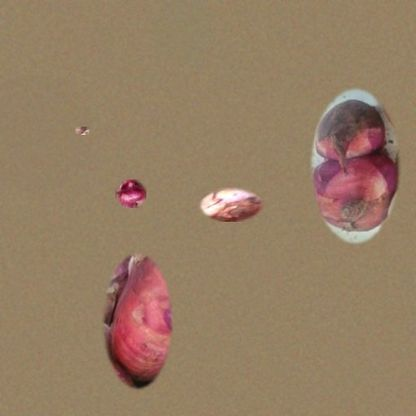damaged: (309, 84, 401, 248)
healthy: (102, 249, 173, 392), (115, 180, 146, 208)
rotten: (198, 188, 263, 222)
sprouted: (76, 127, 89, 135)
